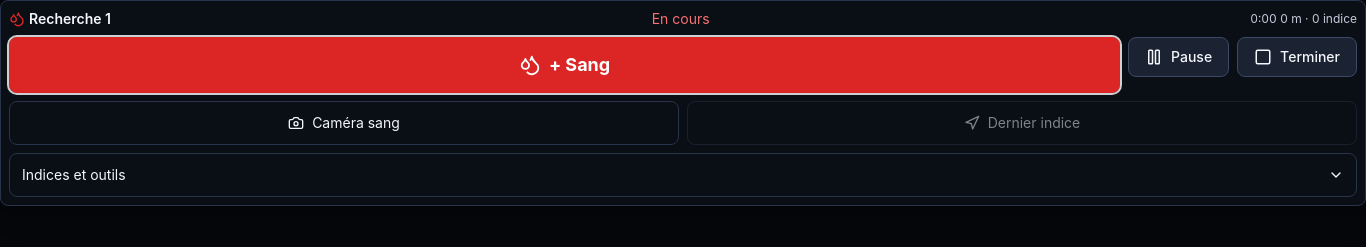
Scenario: BloodPanel › shows a clear failure and keeps nothing when the write fails
Click the button "+ Sang": coordinates (564, 65) [9,37,1120,93]
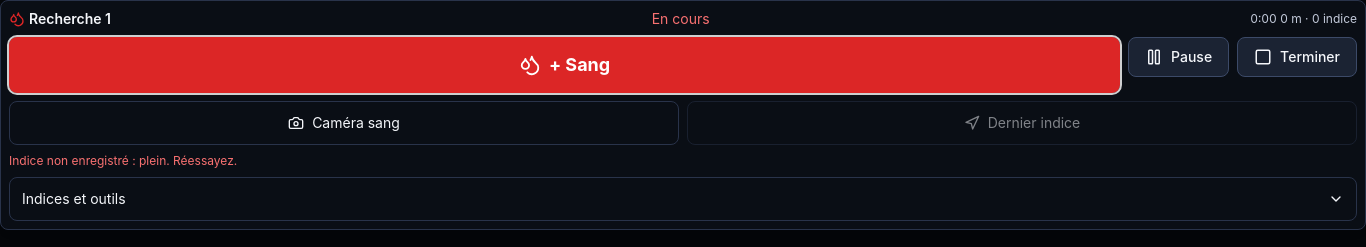
Now the message shows "non enregistré", box [9,153,237,168]
